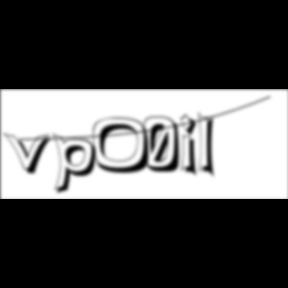0: (144, 115, 188, 174)
I: (198, 110, 222, 182)
O: (92, 117, 158, 176)
i: (181, 112, 205, 180)
p: (53, 132, 103, 198)
v: (3, 131, 57, 177)
